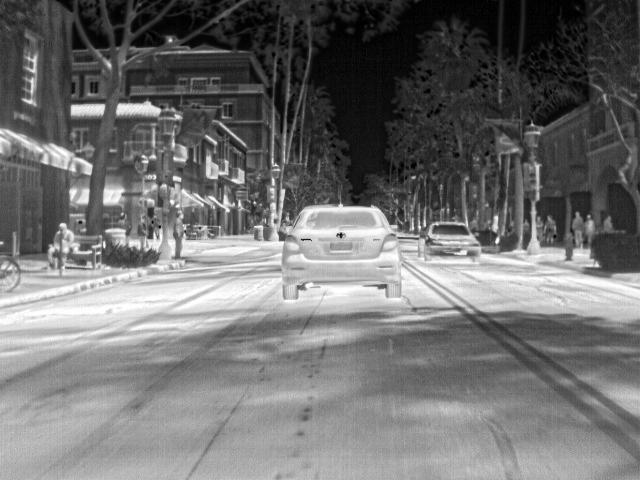car: (276, 205, 405, 298), (417, 220, 484, 266)
person: (48, 221, 76, 276), (174, 210, 188, 260), (542, 213, 559, 245), (585, 212, 598, 251), (574, 210, 586, 250), (138, 213, 151, 249), (117, 212, 133, 235), (535, 214, 545, 239), (603, 214, 616, 232)
